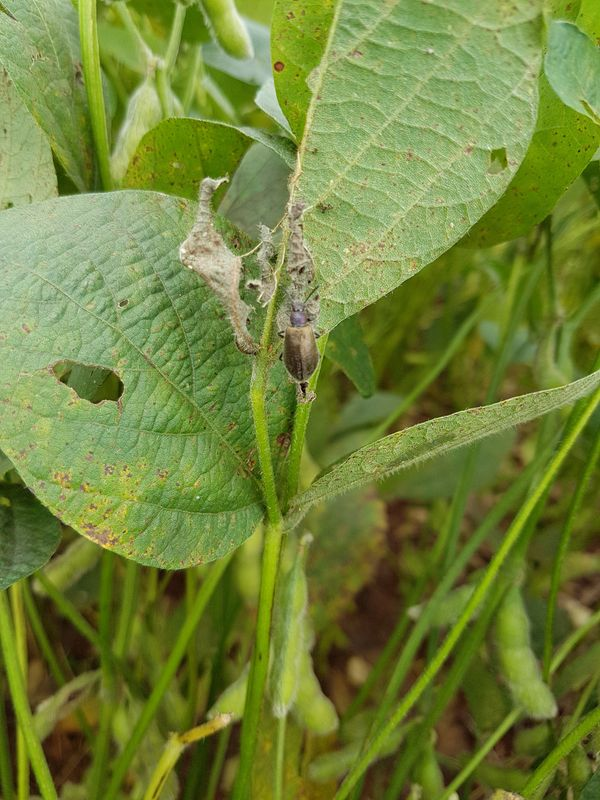Lagria_villosa: (257, 272, 344, 412)
